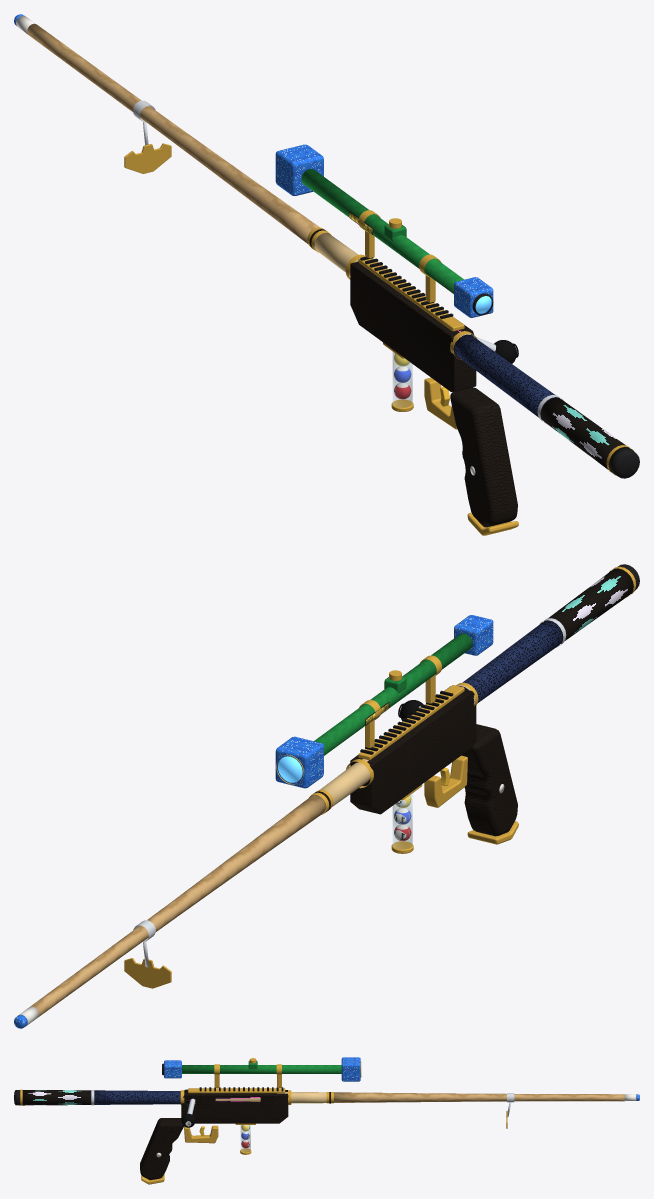
The model's file is w_sniper_cue.glb.
3 views of the same model, one above another, from view 1: azimuth 30°, elevation 25°; view 2: azimuth 150°, elevation 25°; view 3: azimuth 270°, elevation 25° (orthographic). The views are drawn at different scales.
Visible parts, largest first — view 1: cue_wzA, cue_wzB, cue_wzN; view 2: cue_wzB, cue_wzA, cue_wzN; view 3: cue_wzA, cue_wzB, cue_wzN, bolt_wzB.
Part boxes in pixels (x1=…): cue_wzA: x1=309, y1=229, x2=639, y2=527; cue_wzB: x1=14, y1=14, x2=633, y2=535; cue_wzN: x1=349, y1=211, x2=491, y2=407; cue_wzB: x1=14, y1=566, x2=636, y2=1028; cue_wzA: x1=315, y1=564, x2=639, y2=836; cue_wzN: x1=278, y1=702, x2=449, y2=849; cue_wzA: x1=14, y1=1063, x2=330, y2=1180; cue_wzB: x1=20, y1=1057, x2=639, y2=1184; cue_wzN: x1=199, y1=1125, x2=250, y2=1152; bolt_wzB: x1=181, y1=1098, x2=195, y2=1127.
Bounding box in the file's own units: 0.1577 × 0.447 × 2.08.
Materials: 21 (12 with a texture image).
